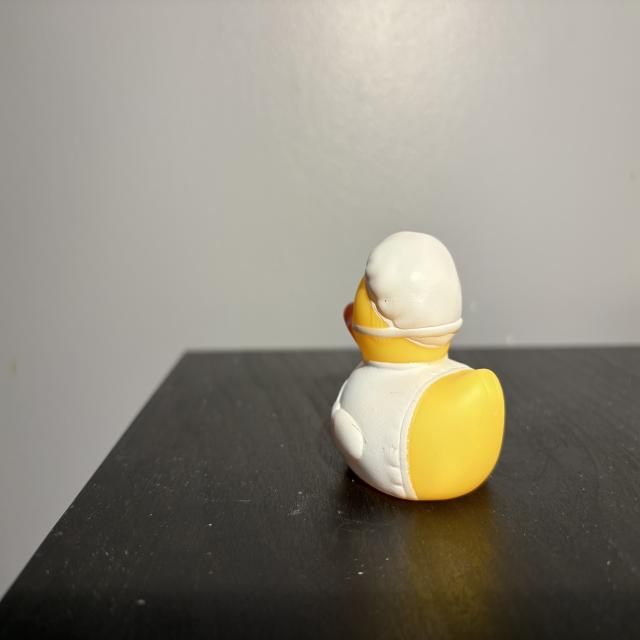duck_specialty: (332, 233, 505, 501)
